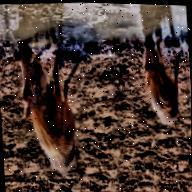boar: (13, 41, 78, 180), (142, 35, 185, 128)
